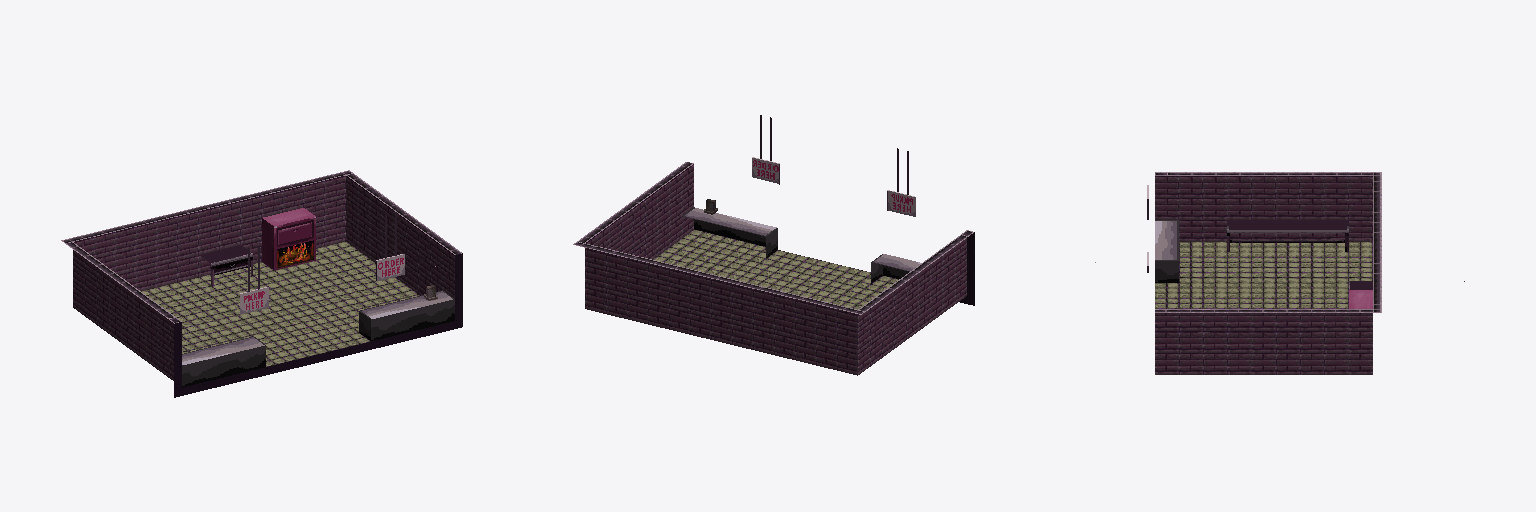
3 views of the same model, side by side, from view 1: azimuth 30°, elevation 25°; view 2: azimuth 150°, elevation 25°; view 3: azimuth 270°, elevation 25° (orthographic).
Visible parts, largest first — view 1: Default; view 2: Default; view 3: Default.
Boxes of the visible parts, x1,y1,x2,y2 form: Default: [61, 170, 462, 397]; Default: [573, 115, 974, 375]; Default: [1095, 172, 1464, 374].
Bounding box in the file's own units: 30 × 13.56 × 30.56.
Materials: 1 (1 with a texture image).